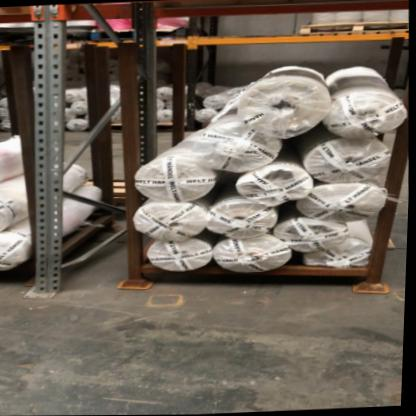vertical_damage: (24, 263, 77, 305)
